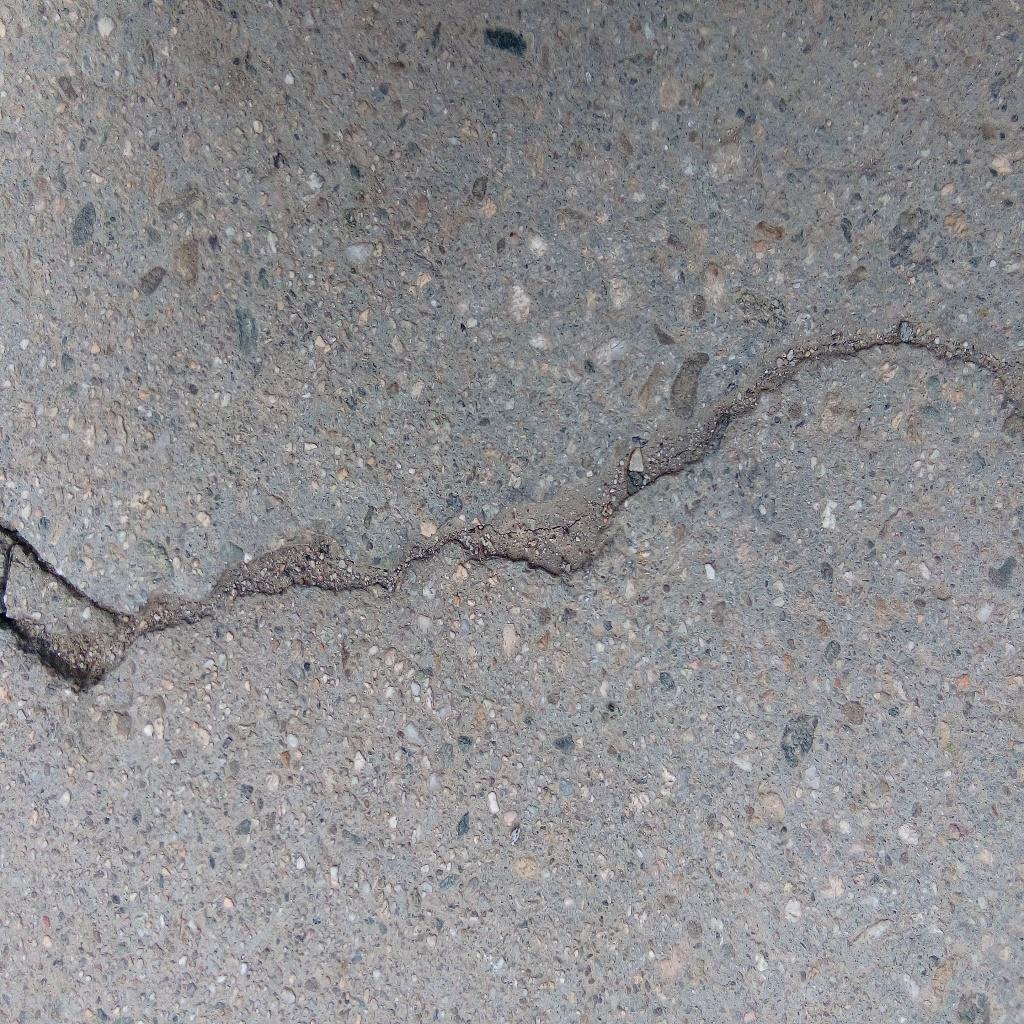Crack: (1, 324, 1024, 697)
